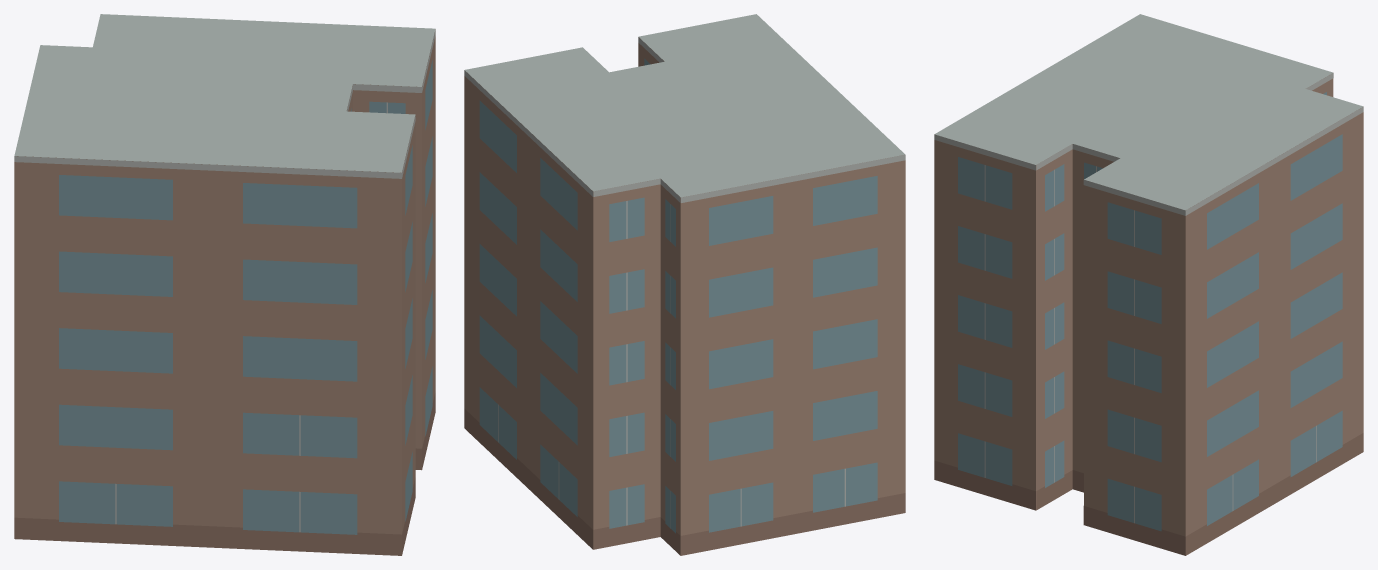
The model's file is survey-upis-32940376.glb.
The picture shows the model from 3 angles, left to right: view 1: azimuth 30°, elevation 25°; view 2: azimuth 150°, elevation 25°; view 3: azimuth 270°, elevation 25°; orthographic projection. The views are drawn at different scales.
Visible parts, largest first — view 1: survey-upis-32940376.tmp; view 2: survey-upis-32940376.tmp; view 3: survey-upis-32940376.tmp.
Boxes of the visible parts, box(x1,y1,x2,y2) form: survey-upis-32940376.tmp: box(14, 14, 435, 555); survey-upis-32940376.tmp: box(464, 14, 905, 555); survey-upis-32940376.tmp: box(934, 14, 1363, 555).
Size of the model in its own units: 18.61 by 15.25 by 17.18.
